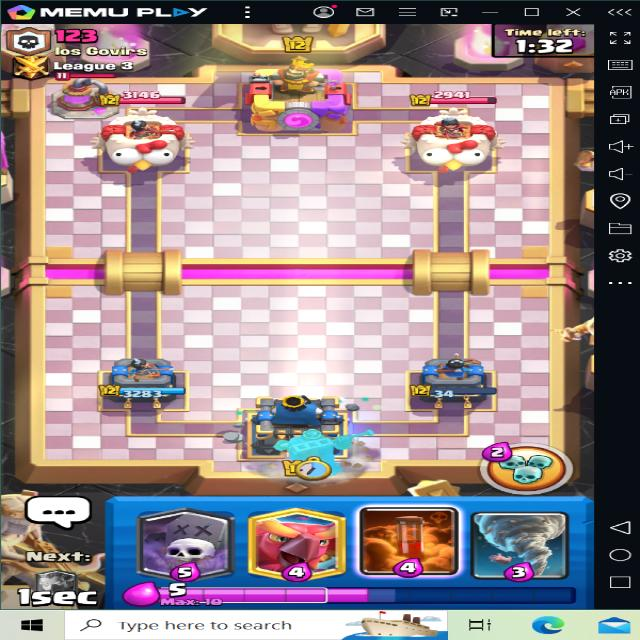elixir-collector: (41, 72, 123, 121)
